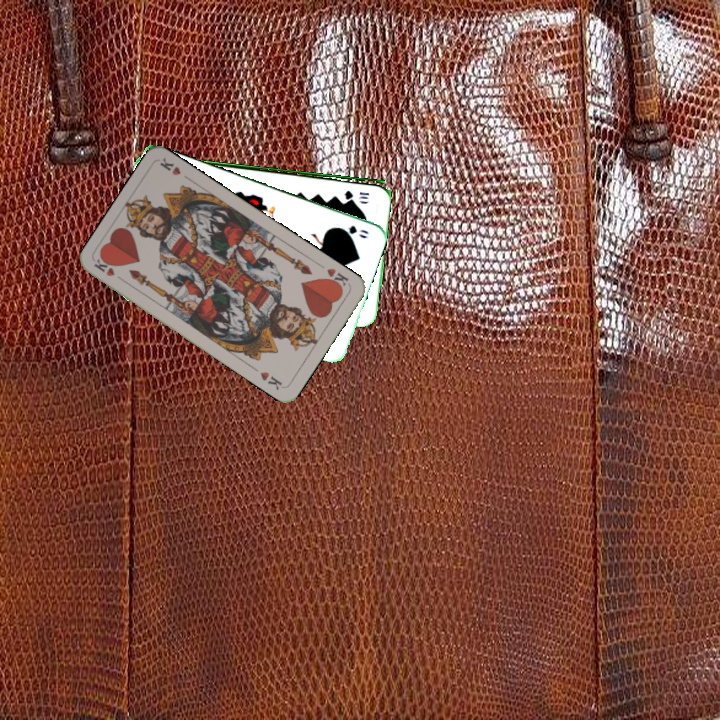G10: (340, 187, 372, 202)
GO: (331, 221, 371, 241)
HK: (90, 254, 128, 285), (322, 264, 352, 292)
